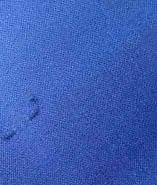knot: (24, 96, 44, 127), (2, 125, 19, 145)
